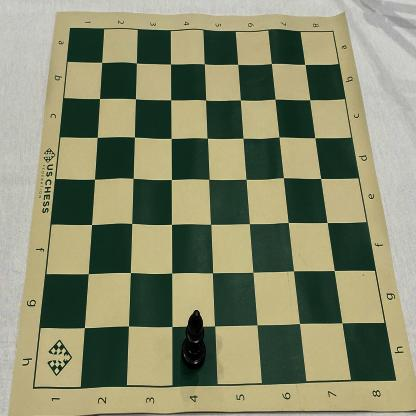bishop: (181, 310, 207, 370)
